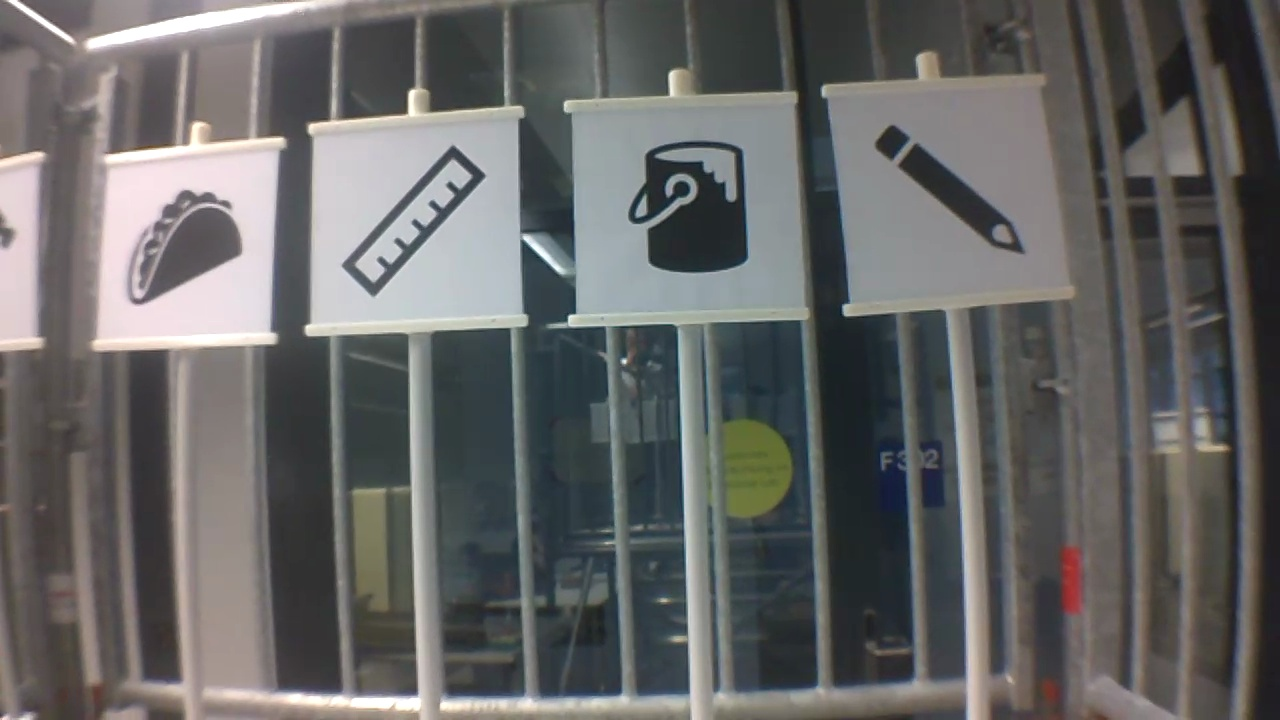bucket: (622, 139, 752, 276)
pencil: (869, 122, 1031, 266)
ruler: (330, 139, 494, 300)
taco: (121, 185, 247, 310)
